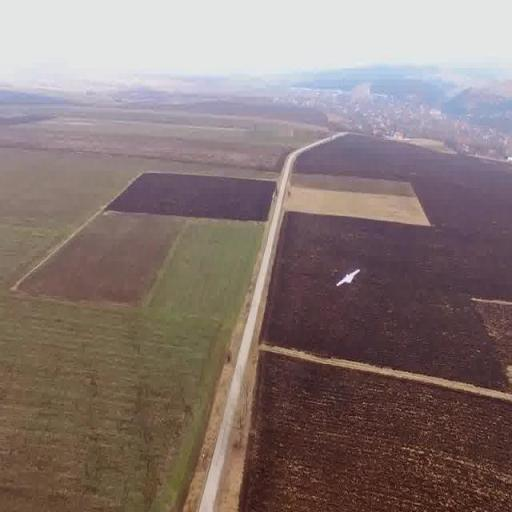uav: (328, 248, 370, 306)
